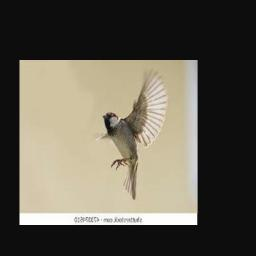Sparrow: (96, 67, 167, 199)
